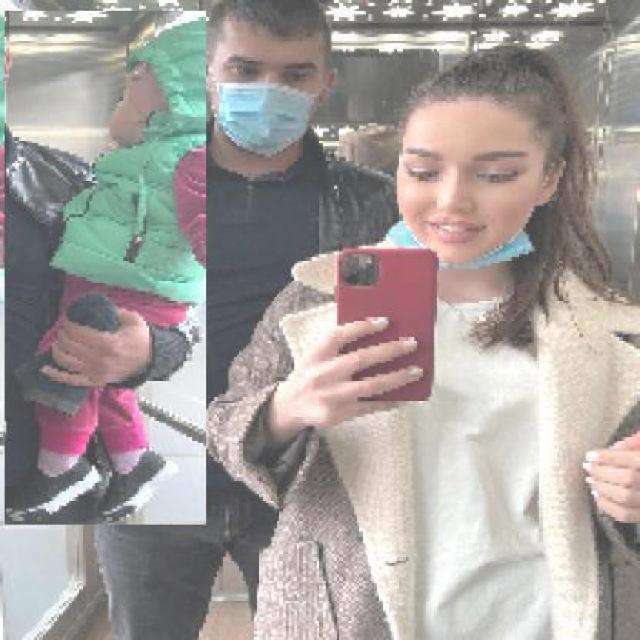child: (3, 11, 206, 526)
